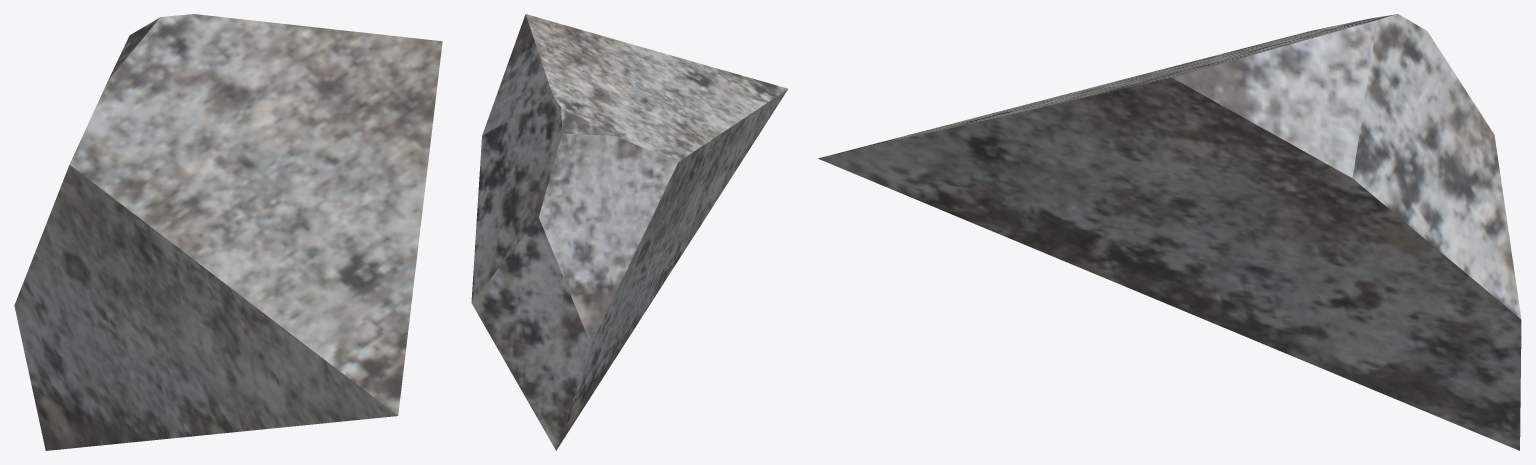
File: Asteroid_Medium_001_02_002_03_005.fbx
3 views of the same model, side by side, from view 1: azimuth 30°, elevation 25°; view 2: azimuth 150°, elevation 25°; view 3: azimuth 270°, elevation 25° (orthographic). The views are drawn at different scales.
Parts seen in each view (by area): view 1: Asteroid_Medium_001_02_002_03_005; view 2: Asteroid_Medium_001_02_002_03_005; view 3: Asteroid_Medium_001_02_002_03_005.
Boxes of the visible parts, left/top/right/bottom form: Asteroid_Medium_001_02_002_03_005: left=14, top=14, right=442, bottom=450; Asteroid_Medium_001_02_002_03_005: left=471, top=14, right=787, bottom=450; Asteroid_Medium_001_02_002_03_005: left=818, top=14, right=1521, bottom=450.
Bounding box in the file's own units: 3.71 × 5.66 × 7.51.
